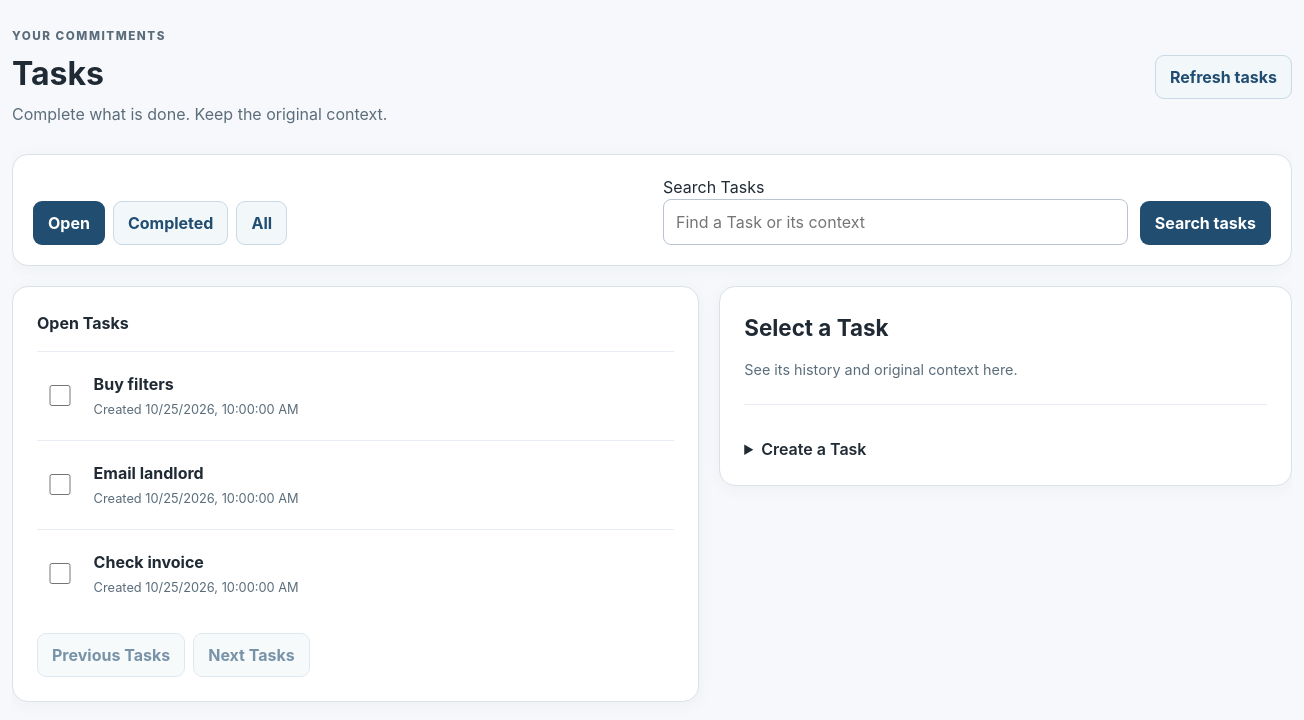
Test: loads bounded server pages and restores the previous page
Step 1. Click the button "Refresh tasks" → (1224, 77), box [1155,55,1292,99]
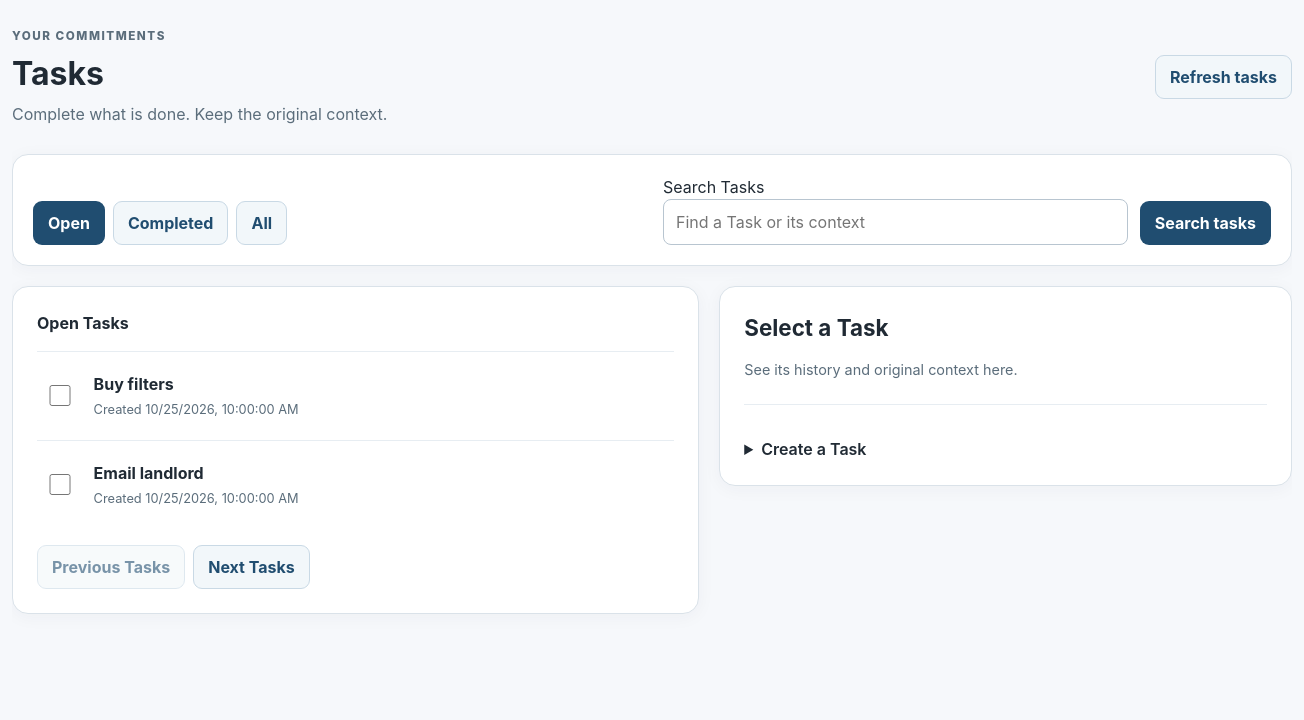
Check: the number of checkboxes is 2, box [49,385,71,406]; [49,474,71,495]
Step 2. Click the button "Next Tasks" → (252, 566), box [193,544,310,588]
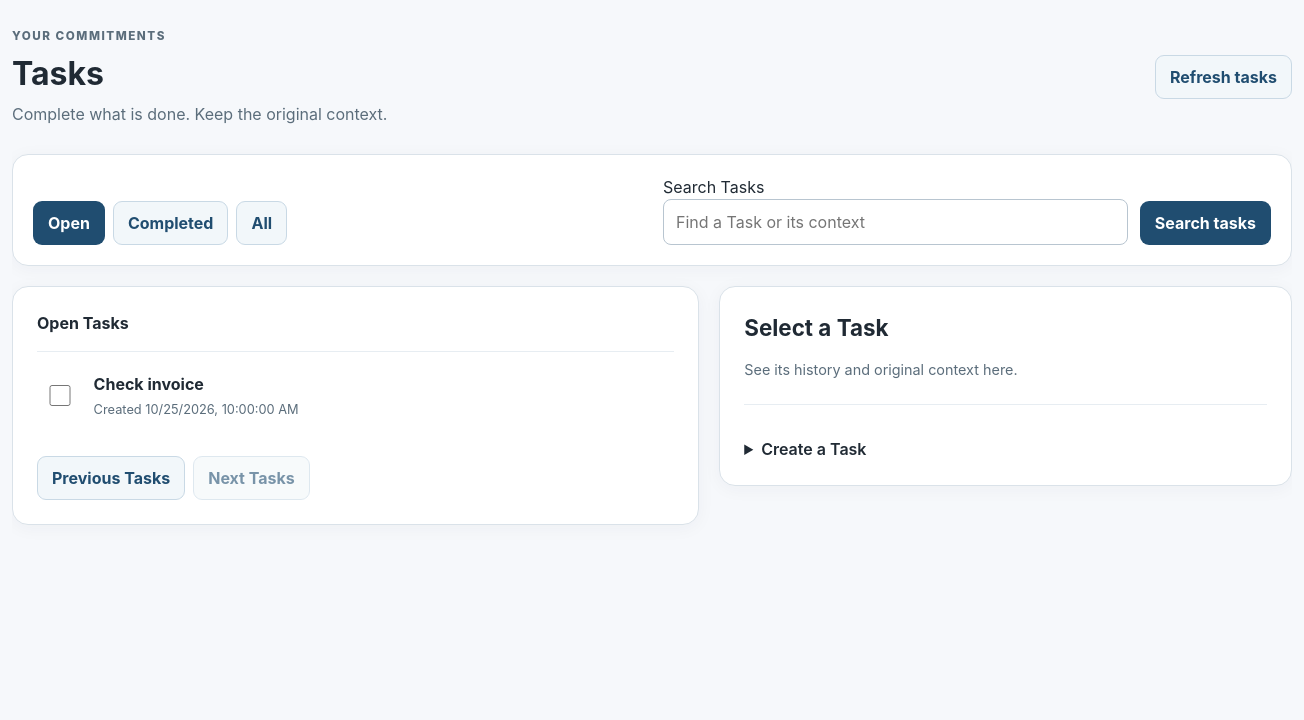
Check: the number of checkboxes is 1, box [49,385,71,406]
Step 3. Click the button "Previous Tasks" → (111, 478), box [37,456,185,500]
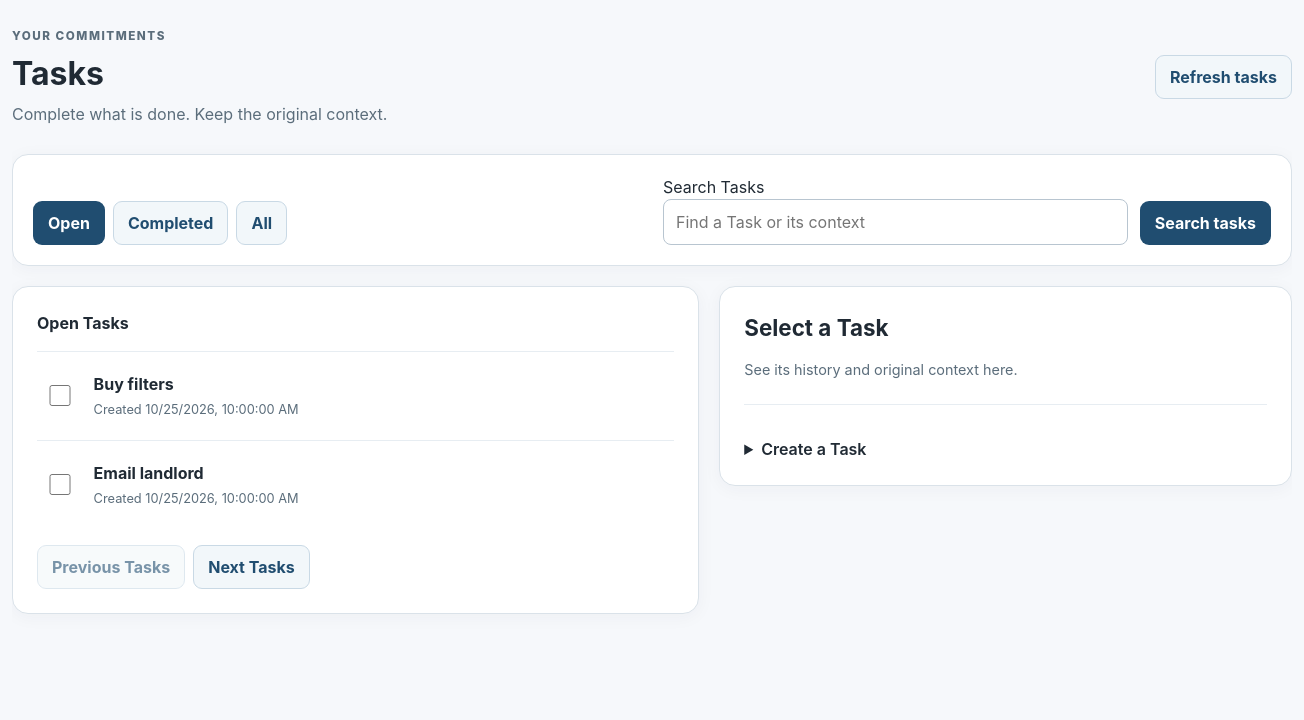
Check: the number of checkboxes is 2, box [49,385,71,406]; [49,474,71,495]
